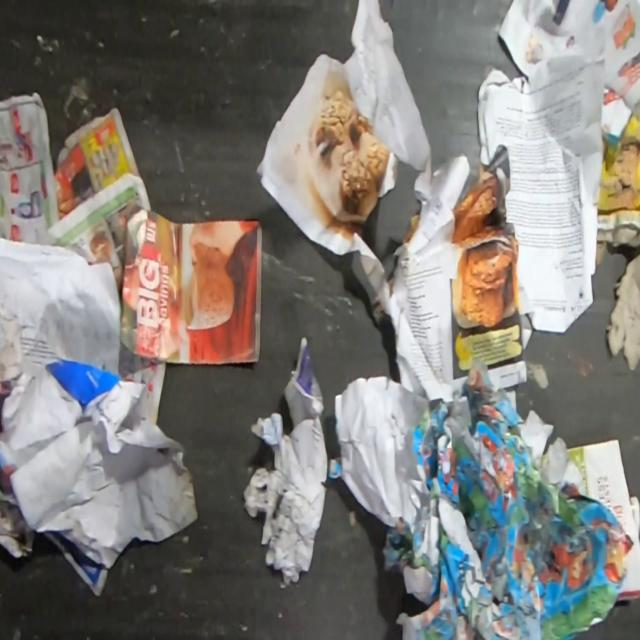cardboard: (597, 100, 640, 213)
